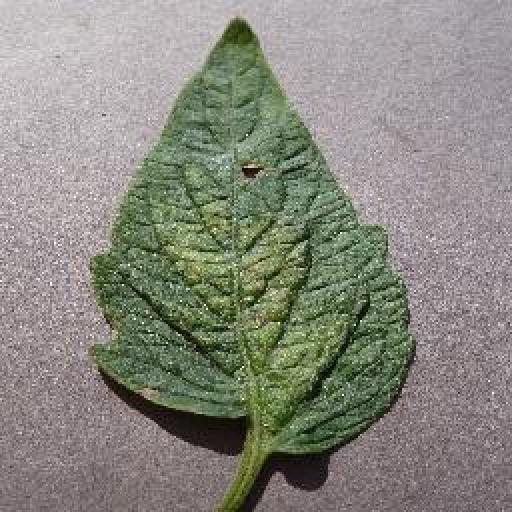disease_tomato: (84, 13, 416, 455)
